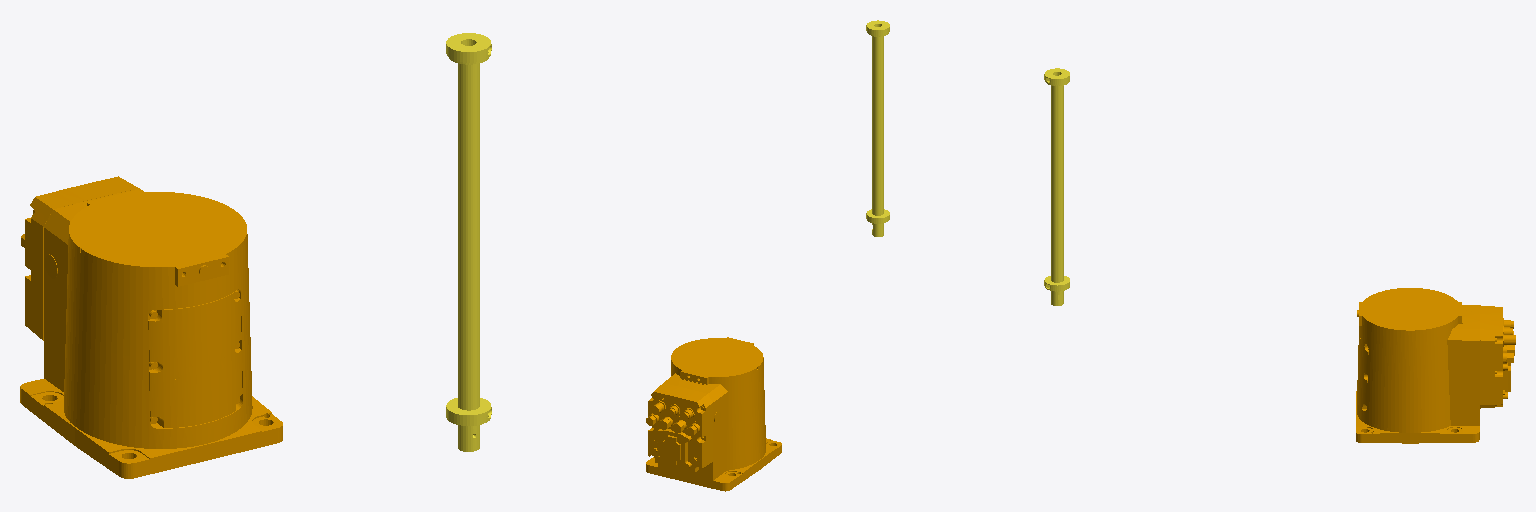
robot.urdf — ABB_IRB920_6kg_550_180_STD:
<?xml version="1.0" ?>
<robot name="ABB_IRB920_6kg_550_180_STD">

  <link name="base_link">
    <inertial>
      <origin xyz="-0.027673827537510368 -0.0026803255602852526 0.0942820642453871" rpy="0 0 0"/>
      <mass value="41.12591553669811"/>
      <inertia ixx="0.263418" iyy="0.182723" izz="0.209732" ixy="-5.3e-05" iyz="-0.005906" ixz="2e-06"/>
    </inertial>
    <visual>
      <origin xyz="0 0 0" rpy="0 0 0"/>
      <geometry>
        <mesh filename="meshes/base_link.stl" scale="0.001 0.001 0.001"/>
      </geometry>
    </visual>
    <collision>
      <origin xyz="0 0 0" rpy="0 0 0"/>
      <geometry>
        <mesh filename="meshes/base_link.stl" scale="0.001 0.001 0.001"/>
      </geometry>
    </collision>
    </link>

  <link name="link1_1">
    <inertial>
      <origin xyz="1.2846441569625e-05 -0.1256487711413173 0.04572951271247738" rpy="0 0 0"/>
      <mass value="32.62635723576266"/>
      <inertia ixx="0.484729" iyy="0.06875" izz="0.525248" ixy="-1.7e-05" iyz="0.020761" ixz="1.5e-05"/>
    </inertial>
    <visual>
      <origin xyz="0.027677 0.027437 -0.1914" rpy="0 0 0"/>
      <geometry>
        <mesh filename="meshes/link1_1.stl" scale="0.001 0.001 0.001"/>
      </geometry>
    </visual>
    <collision>
      <origin xyz="0.027677 0.027437 -0.1914" rpy="0 0 0"/>
      <geometry>
        <mesh filename="meshes/link1_1.stl" scale="0.001 0.001 0.001"/>
      </geometry>
    </collision>
    </link>

  <link name="link2_1">
    <inertial>
      <origin xyz="2.9556487467982673e-06 -0.09936803691337931 0.0836813784830957" rpy="0 0 0"/>
      <mass value="75.77408460894007"/>
      <inertia ixx="1.206999" iyy="0.309324" izz="1.132456" ixy="-1.3e-05" iyz="-0.072376" ixz="1.8e-05"/>
    </inertial>
    <visual>
      <origin xyz="0.027677 0.317437 -0.2774" rpy="0 0 0"/>
      <geometry>
        <mesh filename="meshes/link2_1.stl" scale="0.001 0.001 0.001"/>
      </geometry>
    </visual>
    <collision>
      <origin xyz="0.027677 0.317437 -0.2774" rpy="0 0 0"/>
      <geometry>
        <mesh filename="meshes/link2_1.stl" scale="0.001 0.001 0.001"/>
      </geometry>
    </collision>
    </link>

  <link name="link3_1">
    <inertial>
      <origin xyz="-7.441273095156603e-05 7.513882589227361e-05 0.16549531801456774" rpy="0 0 0"/>
      <mass value="0.6594614836495646"/>
      <inertia ixx="0.011651" iyy="0.011651" izz="7.7e-05" ixy="-1e-06" iyz="-1e-06" ixz="-0.0"/>
    </inertial>
    <visual>
      <origin xyz="0.027677 0.577437 -0.2414" rpy="0 0 0"/>
      <geometry>
        <mesh filename="meshes/link3_1.stl" scale="0.001 0.001 0.001"/>
      </geometry>
    </visual>
    <collision>
      <origin xyz="0.027677 0.577437 -0.2414" rpy="0 0 0"/>
      <geometry>
        <mesh filename="meshes/link3_1.stl" scale="0.001 0.001 0.001"/>
      </geometry>
    </collision>
    </link>

  <joint name="Revolute_5" type="continuous">
    <origin xyz="-0.027677 -0.027437 0.1914" rpy="0 0 0"/>
    <parent link="base_link"/>
    <child link="link1_1"/>
    <axis xyz="0.0 0.0 1.0"/>
    </joint>

  <joint name="Revolute_6" type="continuous">
    <origin xyz="0.0 -0.29 0.086" rpy="0 0 0"/>
    <parent link="link1_1"/>
    <child link="link2_1"/>
    <axis xyz="-0.0 0.0 1.0"/>
    </joint>

  <joint name="Slider_7" type="prismatic">
    <origin xyz="0.0 -0.26 -0.036" rpy="0 0 0"/>
    <parent link="link2_1"/>
    <child link="link3_1"/>
    <axis xyz="-0.0 -0.0 -1.0"/>
    <limit upper="0.0" lower="100.0" effort="100" velocity="100"/>
    </joint>

</robot>

--- What the picture shows (computed from the rendered views, not written in the file) ---
The picture shows the robot from 3 angles, left to right: view 1: azimuth 30°, elevation 25°; view 2: azimuth 150°, elevation 25°; view 3: azimuth 270°, elevation 25°; orthographic projection.
Robot: ABB_IRB920_6kg_550_180_STD — 4 links, 3 joints (2 continuous, 1 prismatic); root link base_link; default pose: every joint at zero.
Visible links, largest first — view 1: base_link, link3_1; view 2: base_link, link3_1; view 3: base_link, link3_1.
Link boxes in pixels (bbox=[...]): base_link: bbox=[20, 176, 282, 478]; link3_1: bbox=[446, 33, 491, 451]; base_link: bbox=[646, 337, 781, 491]; link3_1: bbox=[866, 20, 889, 236]; base_link: bbox=[1356, 288, 1515, 443]; link3_1: bbox=[1044, 68, 1069, 305].
Size in the robot's own frame: 0.17 by 0.7338 by 0.5959 metres.
2 mesh visuals loaded from 4 distinct referenced files (2 binary STL); not drawn: 2 (reference not matched to a file when rendering).